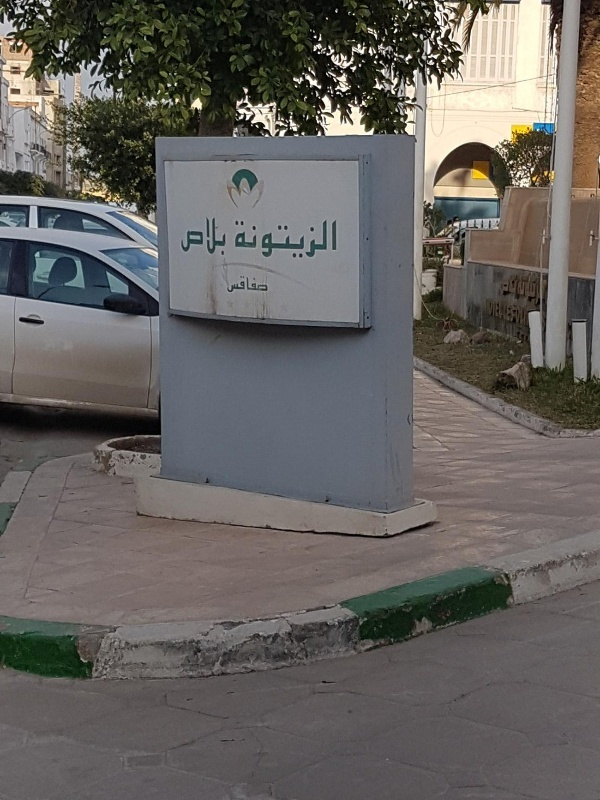text: (241, 220, 256, 261), (257, 220, 272, 261), (273, 220, 288, 261), (289, 220, 304, 261), (305, 220, 320, 261), (321, 220, 336, 261), (193, 216, 208, 257), (209, 216, 224, 257), (497, 296, 512, 332), (513, 296, 528, 332), (181, 216, 192, 257), (513, 277, 528, 307), (529, 277, 544, 307), (486, 296, 496, 332), (502, 277, 512, 307), (241, 275, 256, 293), (228, 275, 240, 293), (529, 296, 535, 332), (235, 220, 240, 261), (257, 275, 268, 293), (225, 216, 229, 257), (545, 277, 549, 307), (337, 220, 338, 261)
